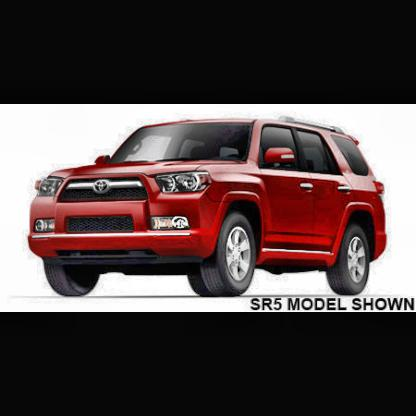Toyota 4Runner SUV 2012: (29, 116, 389, 298)
